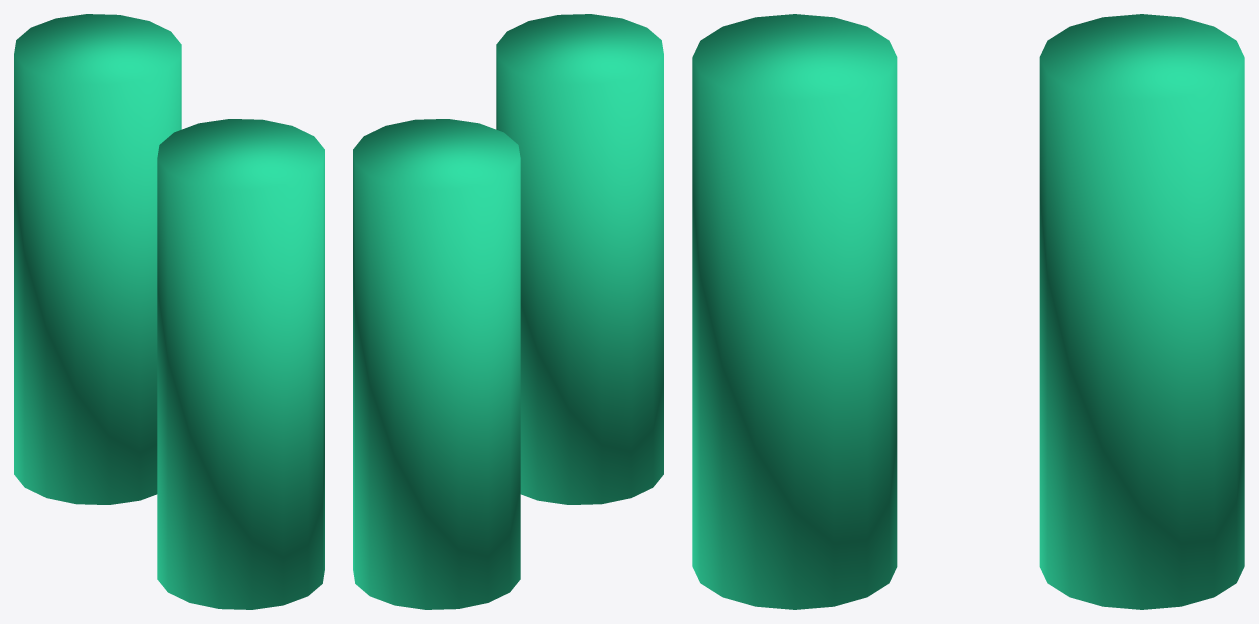
File: SM_Craquez_Socks.fbx
3 views of the same model, side by side, from view 1: azimuth 30°, elevation 25°; view 2: azimuth 150°, elevation 25°; view 3: azimuth 270°, elevation 25° (orthographic). The views are drawn at different scales.
Visible parts, largest first — view 1: SM_Craquez_Socks; view 2: SM_Craquez_Socks; view 3: SM_Craquez_Socks.
Part boxes in pixels (box(x1,y1,x2,y2)): SM_Craquez_Socks: box(14, 14, 324, 609); SM_Craquez_Socks: box(353, 14, 663, 609); SM_Craquez_Socks: box(692, 14, 1244, 609).
Bounding box in the file's own units: 0.124 × 0.334 × 0.34.
